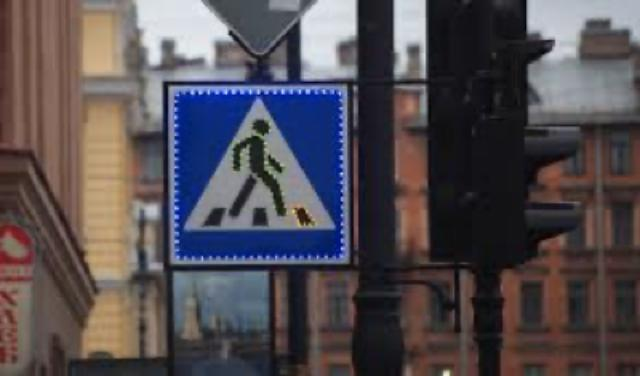crosswalk-sign: (161, 80, 353, 270)
